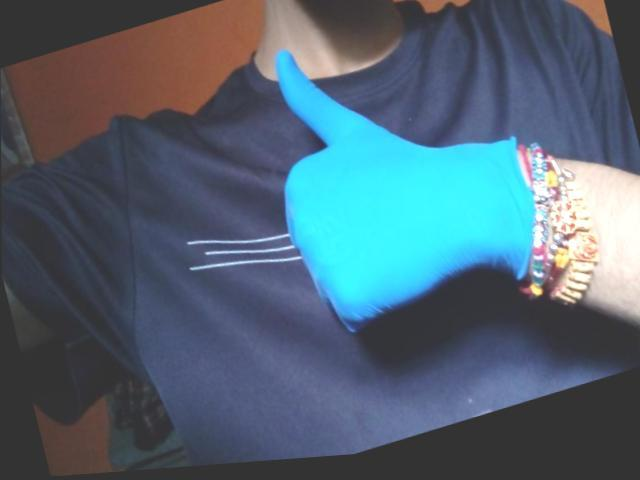Hand-in-Glove: (236, 0, 568, 374)
